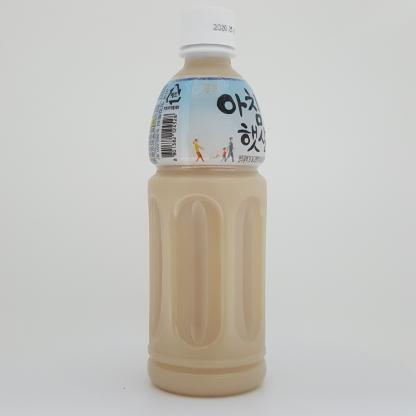------500ML: (147, 6, 267, 397)
